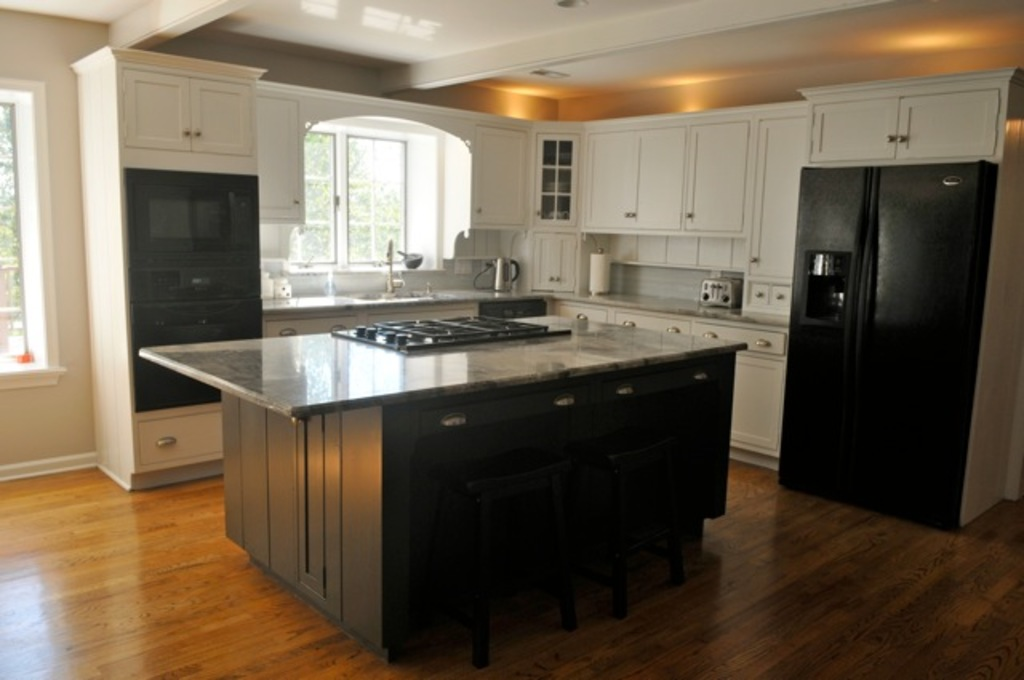cabinet door: (750, 121, 798, 267), (430, 393, 583, 432), (626, 128, 683, 228), (177, 74, 251, 148), (476, 130, 530, 231), (691, 129, 742, 231), (898, 103, 993, 156), (595, 369, 723, 403), (817, 109, 898, 161), (130, 74, 184, 148), (583, 129, 626, 218), (531, 133, 571, 221), (146, 422, 223, 462), (534, 235, 577, 291), (700, 326, 782, 351), (770, 286, 791, 307), (754, 286, 775, 305)
handle: (860, 244, 883, 386), (842, 230, 857, 386), (438, 413, 471, 433), (550, 394, 582, 410), (614, 382, 639, 400), (691, 367, 713, 386), (878, 128, 898, 148), (156, 435, 178, 451), (895, 131, 911, 153), (754, 337, 772, 356)
refrigerator door: (867, 183, 958, 500), (795, 171, 862, 477)
